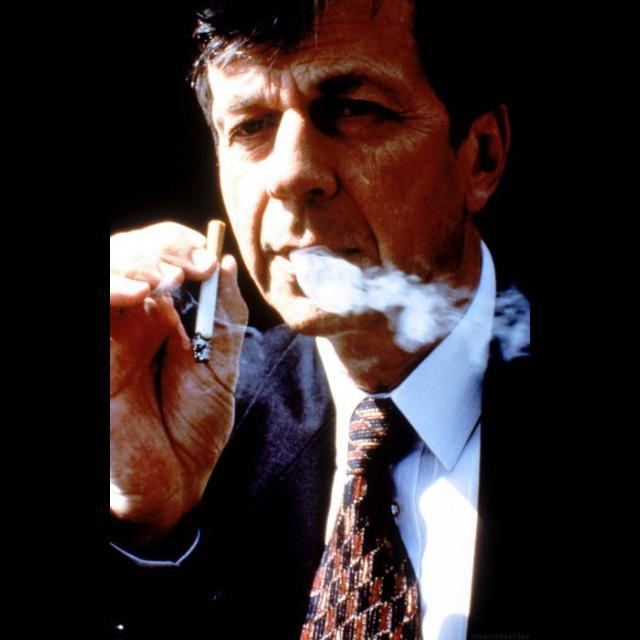rokok: (187, 214, 235, 368)
